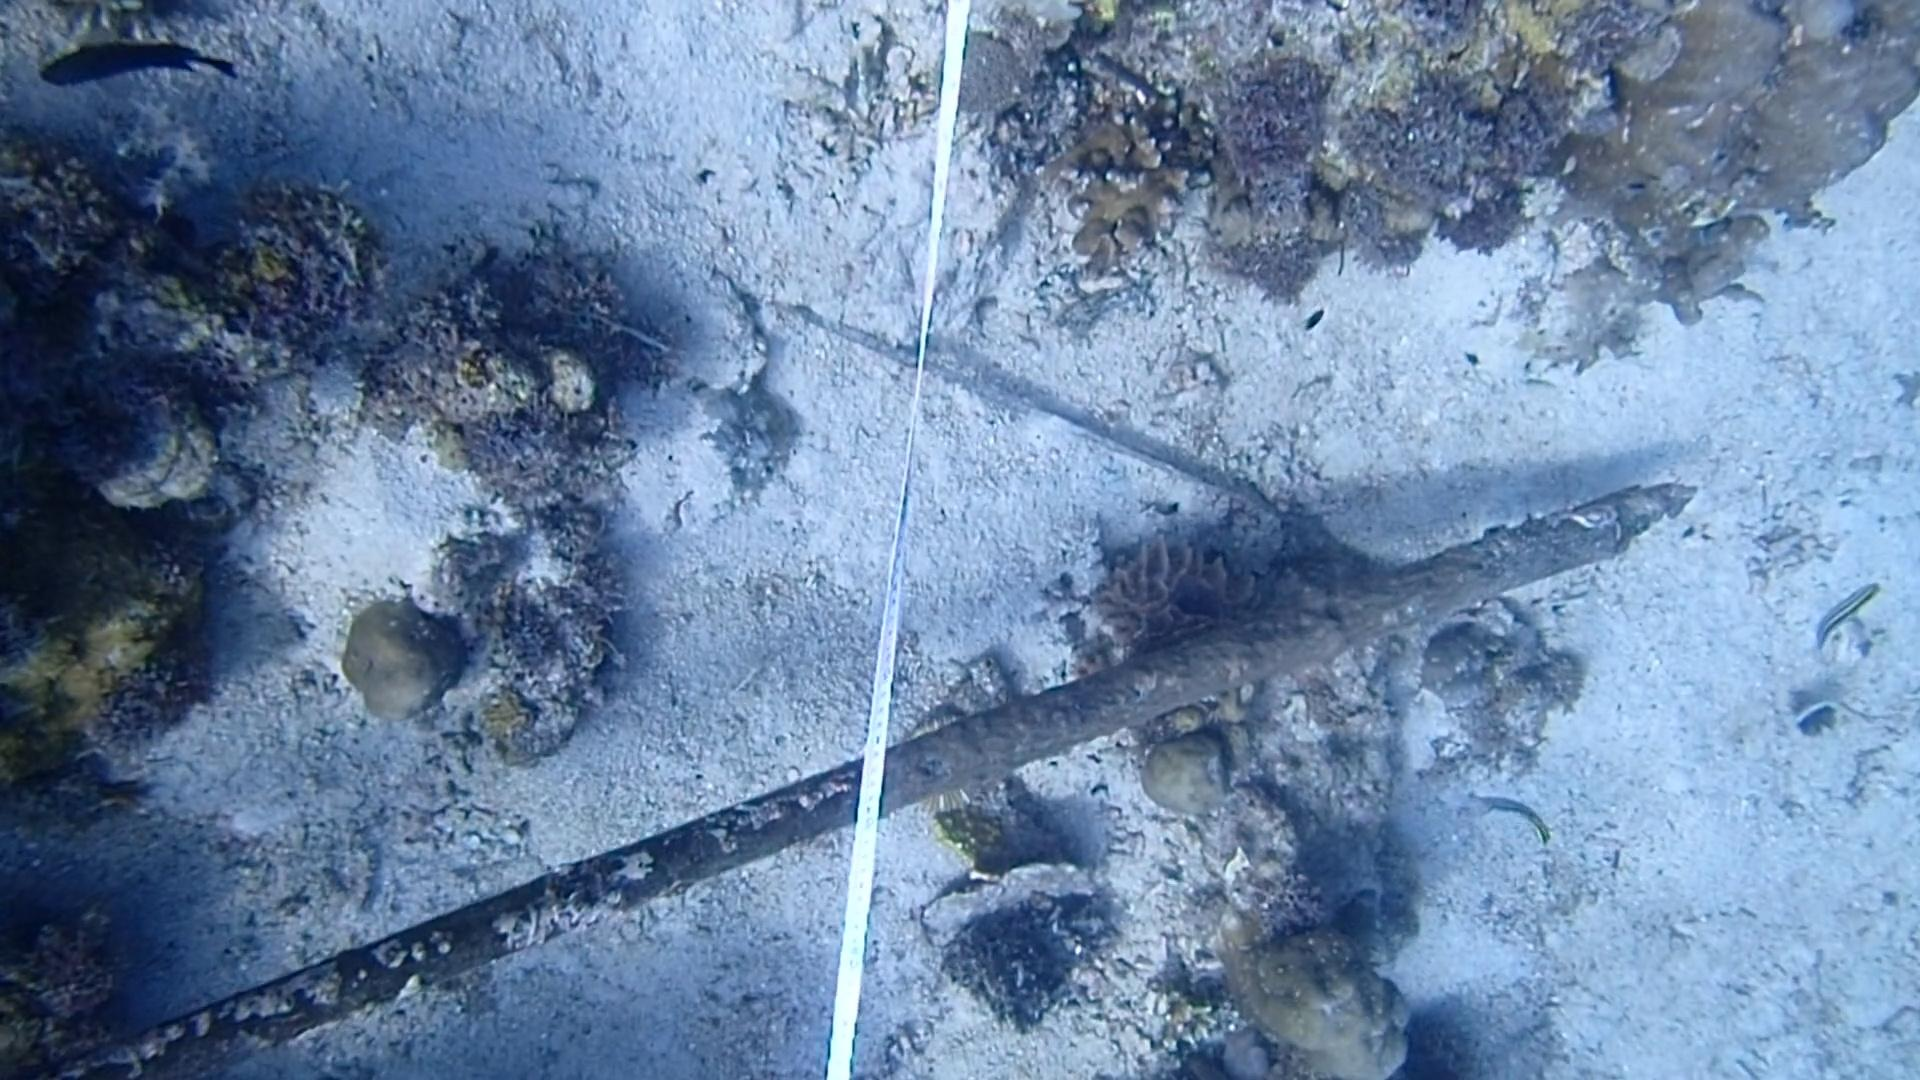Dark Fish: (36, 24, 245, 102)
Striped Fish: (1803, 558, 1894, 658), (1466, 777, 1560, 855)
